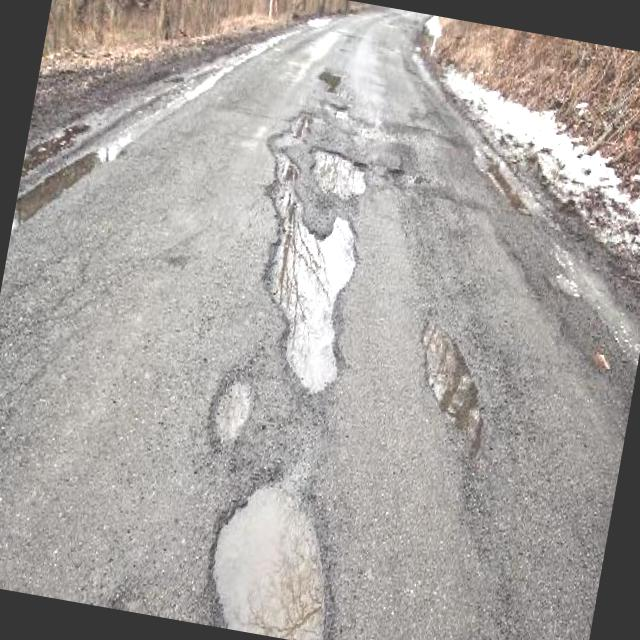pothole: (193, 461, 357, 640), (242, 201, 367, 397), (398, 308, 504, 459), (258, 98, 318, 210), (203, 365, 259, 454), (302, 141, 373, 202), (318, 95, 356, 122)
